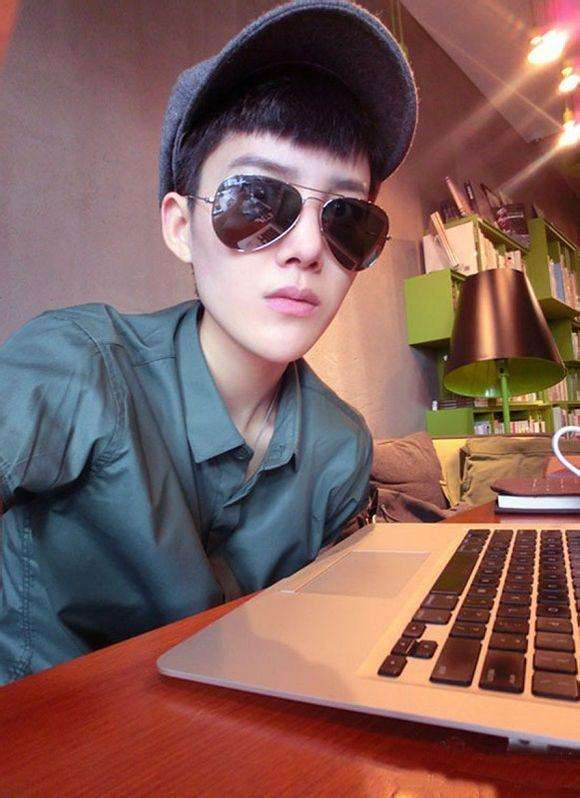person: (5, 9, 428, 635)
